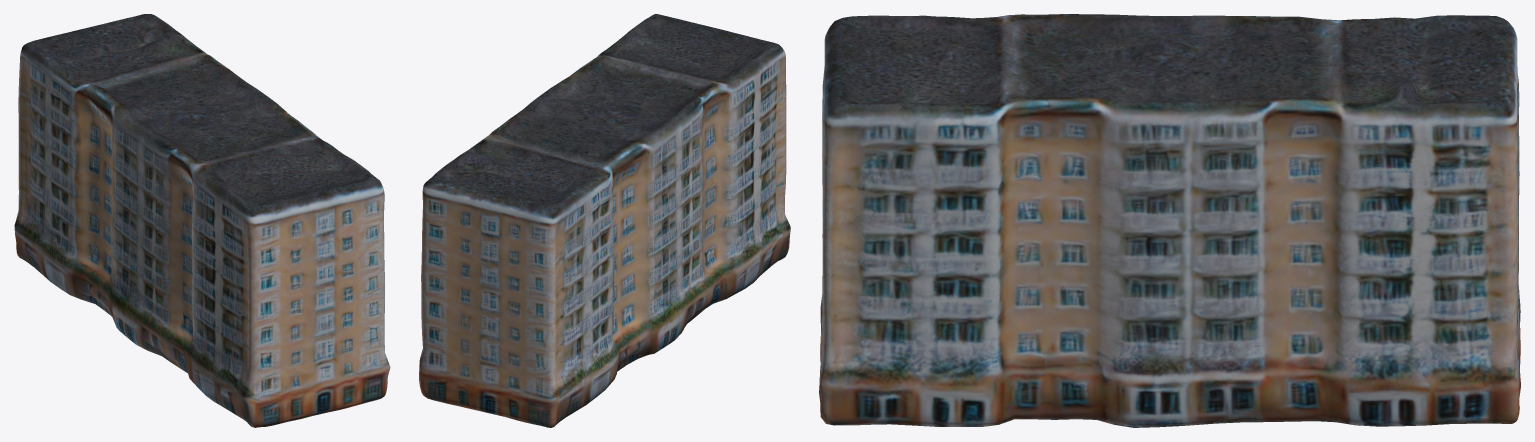
The model's file is 01936d08efc4_Russian_apartments_.fbx.
3 renders of one model, left to right at view 1: azimuth 30°, elevation 25°; view 2: azimuth 150°, elevation 25°; view 3: azimuth 270°, elevation 25°, orthographic. The views are drawn at different scales.
Visible parts, largest first — view 1: mesh; view 2: mesh; view 3: mesh.
Boxes of the visible parts, x1,y1,x2,y2 form: mesh: (14,14,390,427); mesh: (419,14,790,427); mesh: (819,14,1520,427).
Size of the model in its own units: 35.33 by 51.6 by 99.77.
